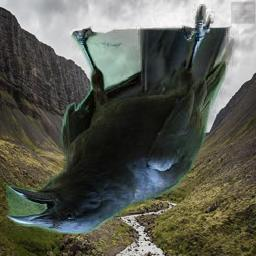Crow: (6, 4, 234, 234)
